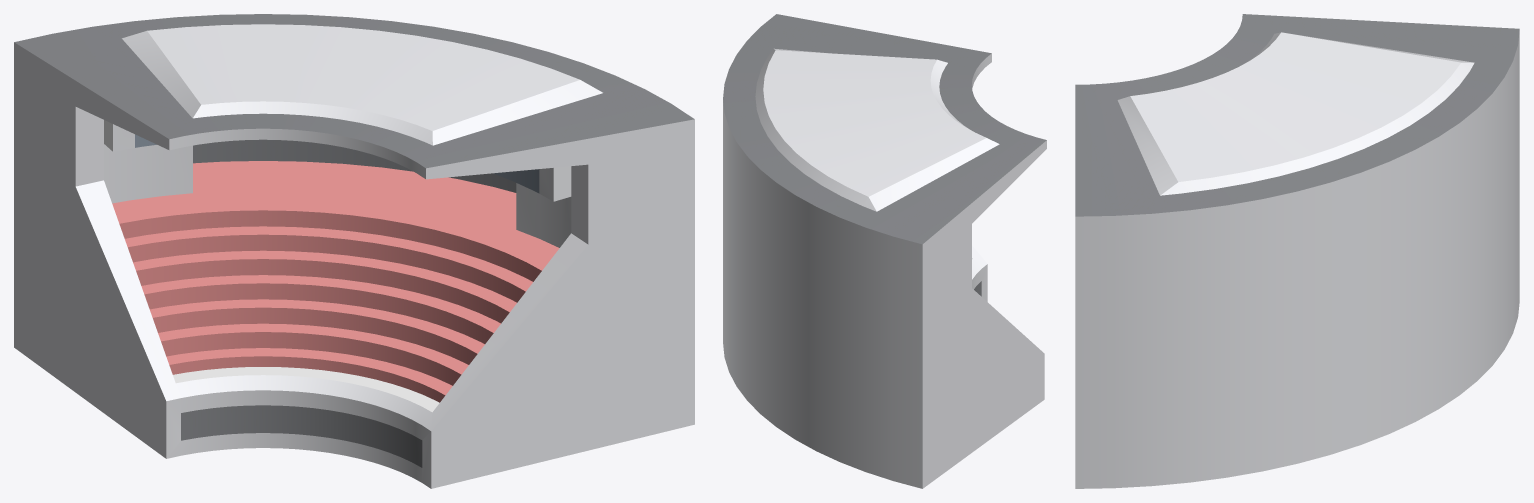
Rendered from grandStandCoveredRound.glb.
The picture shows the model from 3 angles, left to right: view 1: azimuth 30°, elevation 25°; view 2: azimuth 150°, elevation 25°; view 3: azimuth 270°, elevation 25°; orthographic projection. The views are drawn at different scales.
Parts seen in each view (by area): view 1: grandStandCoveredRound(Clone); view 2: grandStandCoveredRound(Clone); view 3: grandStandCoveredRound(Clone).
Part boxes in pixels (left/top/right/bottom): grandStandCoveredRound(Clone): left=14, top=14, right=694, bottom=488; grandStandCoveredRound(Clone): left=723, top=14, right=1046, bottom=488; grandStandCoveredRound(Clone): left=1075, top=14, right=1519, bottom=488.
Bounding box in the file's own units: 1.64 × 1.19 × 1.64.
Materials: 1 (1 with a texture image).
